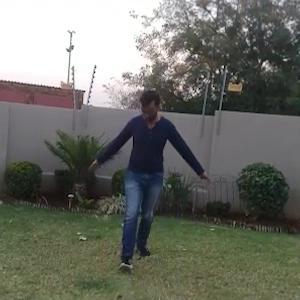land: (87, 83, 212, 270)
